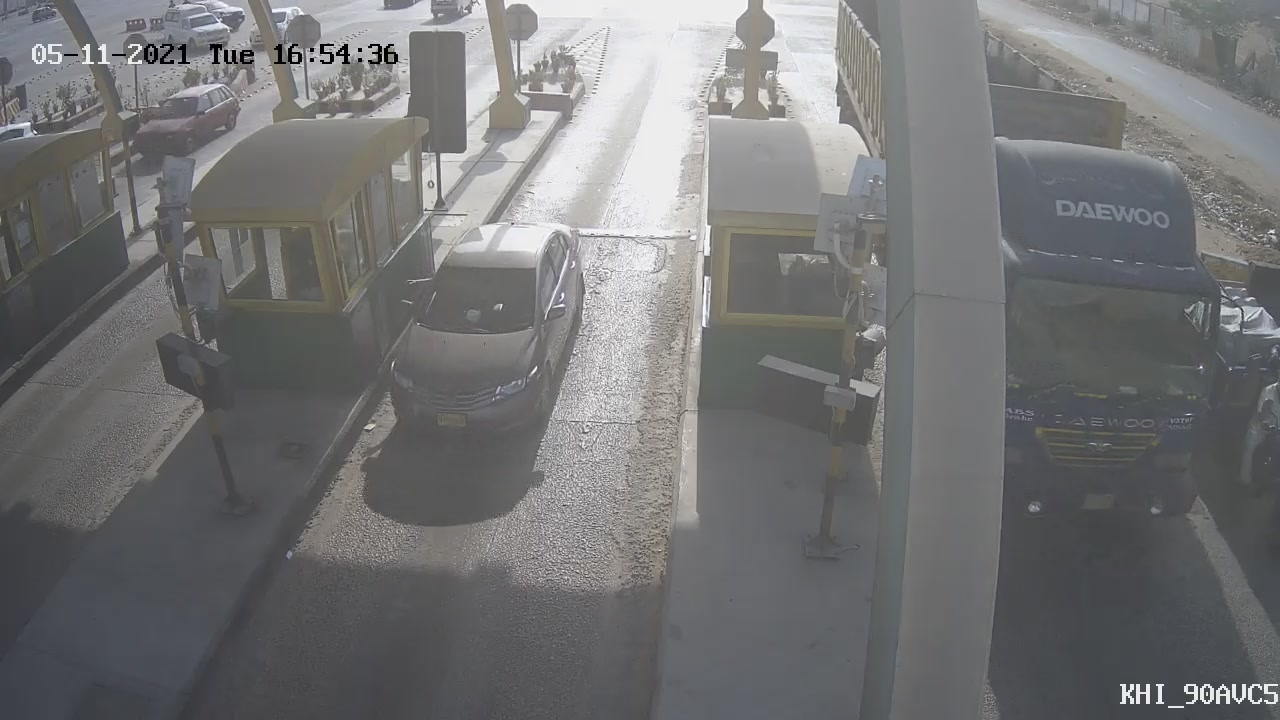F1: (360, 201, 604, 456)
